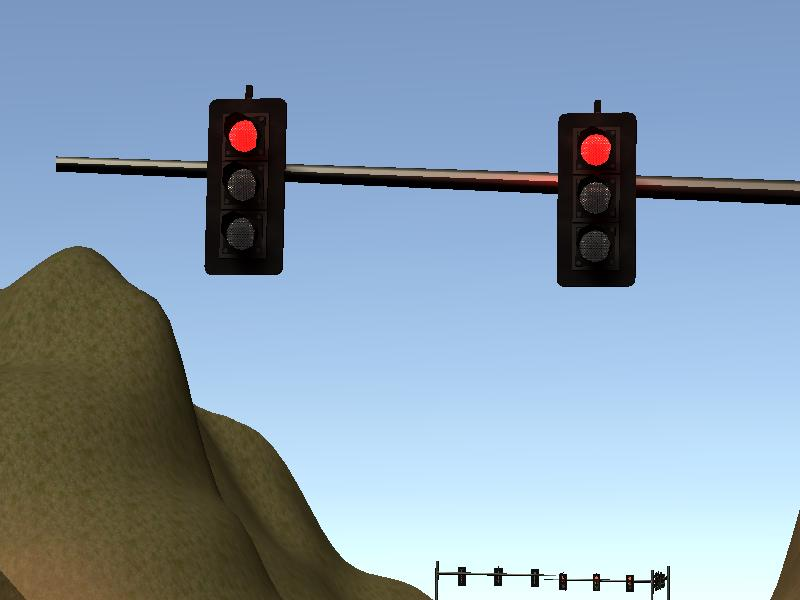red: (203, 95, 287, 276), (555, 111, 639, 292)
